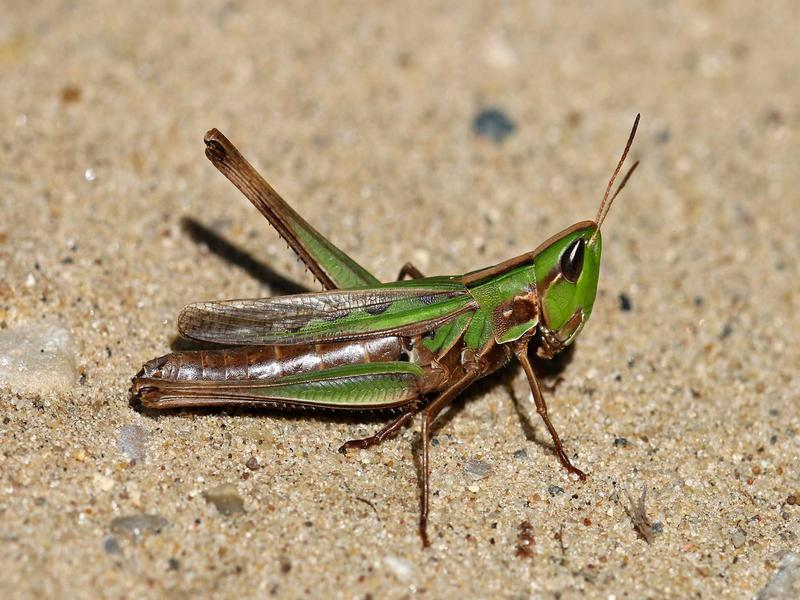Grasshopper: (121, 193, 631, 478)
